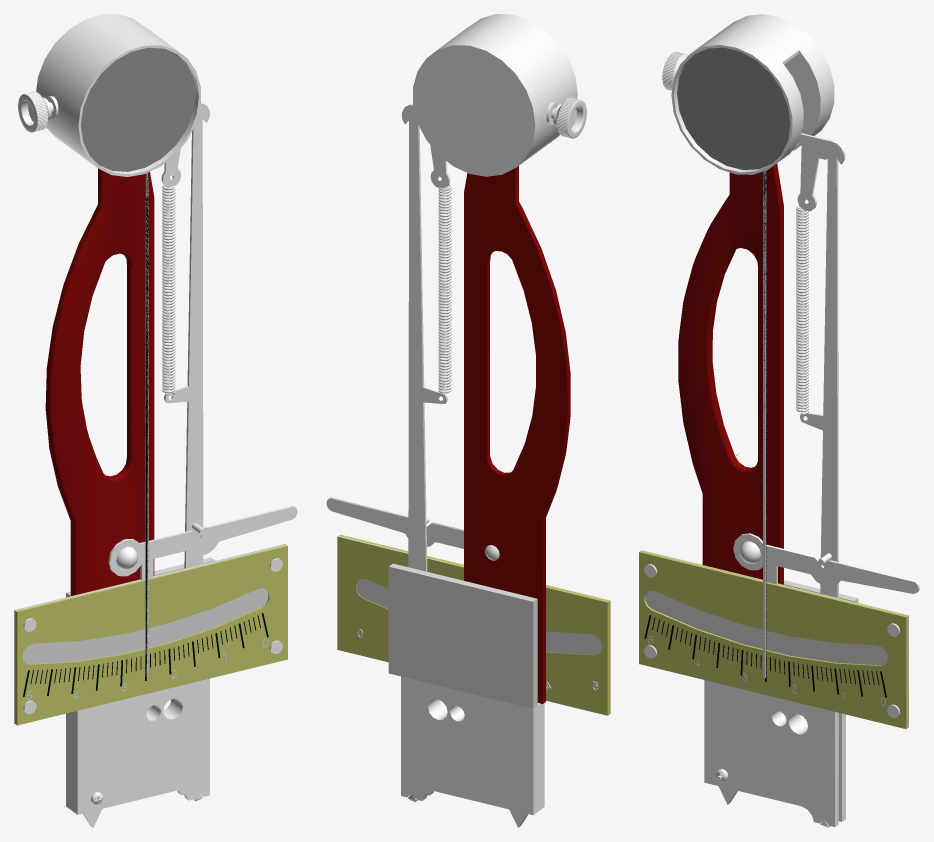
File: Tensometer.FBX
The picture shows the model from 3 angles, left to right: view 1: azimuth 30°, elevation 25°; view 2: azimuth 150°, elevation 25°; view 3: azimuth 330°, elevation 25°; orthographic projection.
Parts seen in each view (by area): view 1: Layer:2. Tay Don, Layer:4. Than, Layer:5. Mat so, Layer:0, Layer:1.Mat Tron, Layer:8. Kim Loai, Layer:3. Kim Quay, Layer:7. Vach So, Layer:6. Kim Chinh; view 2: Layer:2. Tay Don, Layer:4. Than, Layer:1.Mat Tron, Layer:8. Kim Loai, Layer:5. Mat so; view 3: Layer:2. Tay Don, Layer:5. Mat so, Layer:4. Than, Layer:0, Layer:1.Mat Tron, Layer:8. Kim Loai, Layer:3. Kim Quay, Layer:7. Vach So, Layer:6. Kim Chinh.
Boxes of the visible parts, bbox=[...] form: Layer:2. Tay Don: bbox=[18, 91, 297, 827]; Layer:4. Than: bbox=[45, 168, 154, 595]; Layer:5. Mat so: bbox=[14, 544, 287, 725]; Layer:0: bbox=[81, 47, 195, 171]; Layer:1.Mat Tron: bbox=[36, 14, 200, 176]; Layer:8. Kim Loai: bbox=[15, 545, 286, 723]; Layer:3. Kim Quay: bbox=[145, 173, 148, 676]; Layer:7. Vach So: bbox=[23, 613, 268, 696]; Layer:6. Kim Chinh: bbox=[145, 172, 148, 676]; Layer:2. Tay Don: bbox=[326, 97, 586, 827]; Layer:4. Than: bbox=[464, 166, 570, 703]; Layer:1.Mat Tron: bbox=[413, 14, 577, 176]; Layer:8. Kim Loai: bbox=[338, 536, 602, 708]; Layer:5. Mat so: bbox=[337, 534, 610, 715]; Layer:2. Tay Don: bbox=[644, 51, 919, 827]; Layer:5. Mat so: bbox=[639, 550, 908, 728]; Layer:4. Than: bbox=[678, 163, 783, 584]; Layer:0: bbox=[677, 47, 790, 169]; Layer:1.Mat Tron: bbox=[671, 14, 834, 174]; Layer:8. Kim Loai: bbox=[641, 550, 908, 727]; Layer:3. Kim Quay: bbox=[763, 171, 766, 677]; Layer:7. Vach So: bbox=[644, 615, 886, 697]; Layer:6. Kim Chinh: bbox=[763, 171, 766, 677].
Bounding box in the file's own units: 45.78 × 123 × 12.
